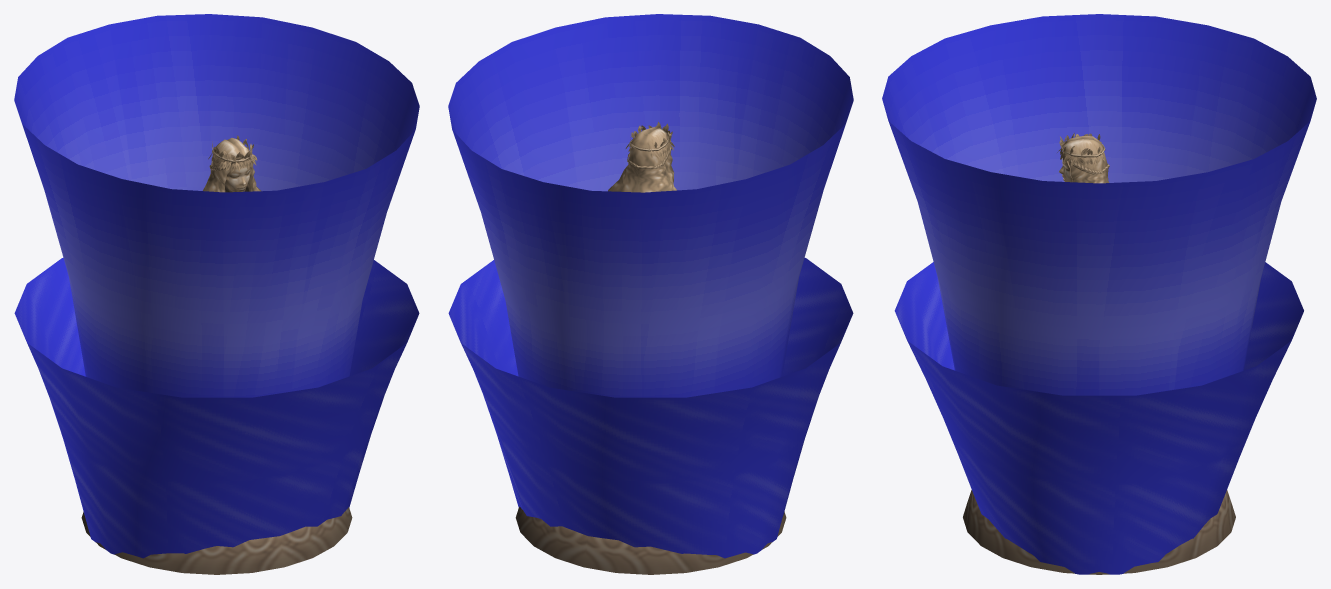
Rendered from Ivory Idol.fbx.
The picture shows the model from 3 angles, left to right: view 1: azimuth 30°, elevation 25°; view 2: azimuth 150°, elevation 25°; view 3: azimuth 270°, elevation 25°; orthographic projection.
Parts seen in each view (by area): view 1: Top Effect, Bottom Effect, Base, Body; view 2: Top Effect, Bottom Effect, Base, Body; view 3: Top Effect, Bottom Effect, Base, Body.
Boxes of the visible parts, x1=… form: Top Effect: x1=14, y1=14, x2=419, y2=397; Bottom Effect: x1=14, y1=258, x2=419, y2=558; Base: x1=81, y1=507, x2=352, y2=574; Body: x1=203, y1=135, x2=261, y2=192; Top Effect: x1=448, y1=14, x2=853, y2=397; Bottom Effect: x1=448, y1=258, x2=853, y2=558; Base: x1=515, y1=506, x2=786, y2=574; Body: x1=608, y1=122, x2=676, y2=192; Top Effect: x1=882, y1=14, x2=1316, y2=395; Bottom Effect: x1=894, y1=262, x2=1303, y2=574; Base: x1=963, y1=490, x2=1235, y2=574; Body: x1=1057, y1=133, x2=1109, y2=183.
Size of the model in its own units: 1540 by 1774 by 1664.
